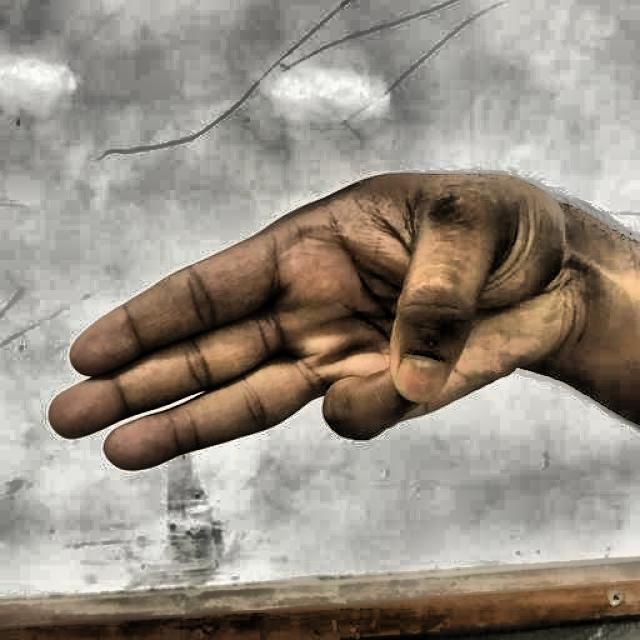Ma: (32, 152, 605, 512)
